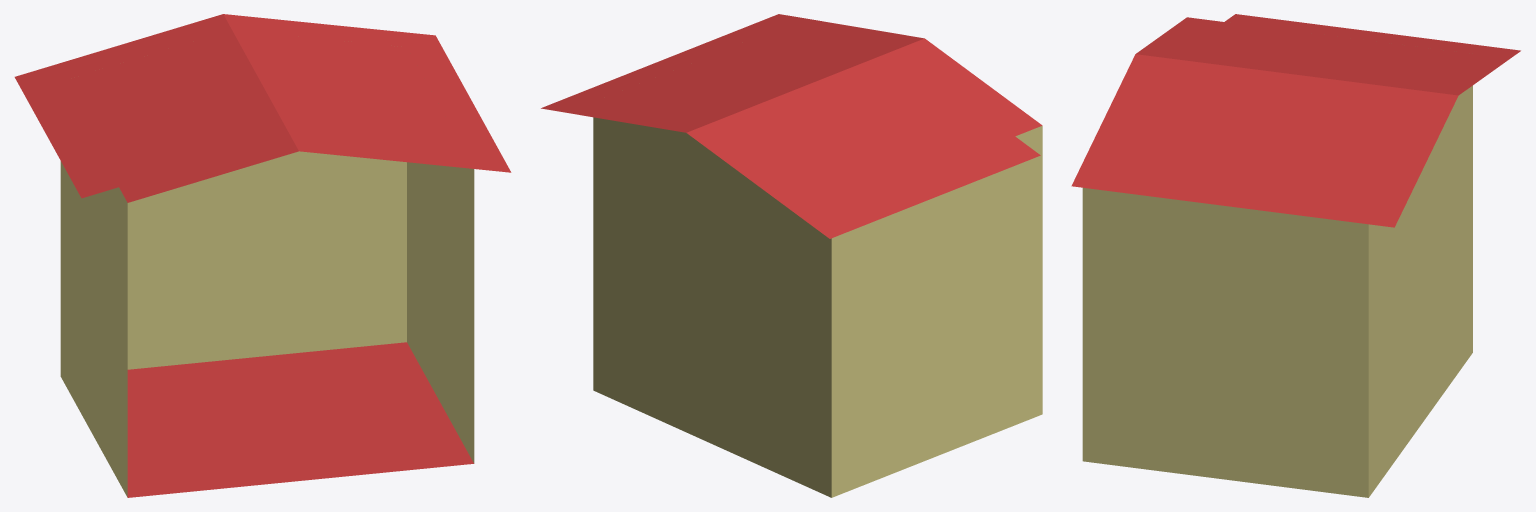
3 renders of one model, left to right at view 1: azimuth 30°, elevation 25°; view 2: azimuth 150°, elevation 25°; view 3: azimuth 270°, elevation 25°, orthographic. The views are drawn at different scales.
Size of the model in its own units: 9.76 by 8.69 by 7.11.
